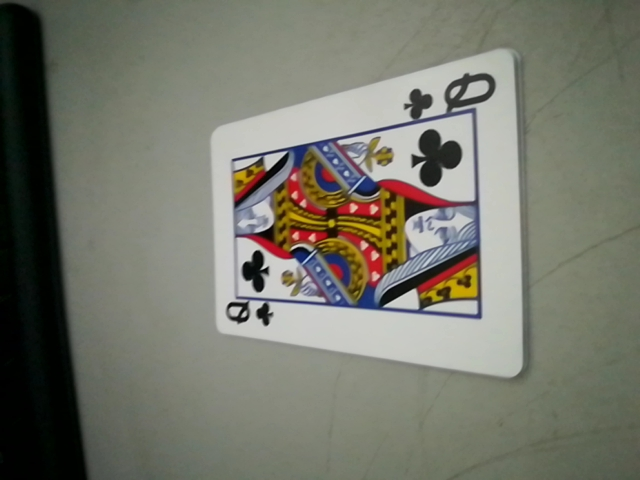mh q: (403, 68, 502, 124), (220, 290, 280, 336)
